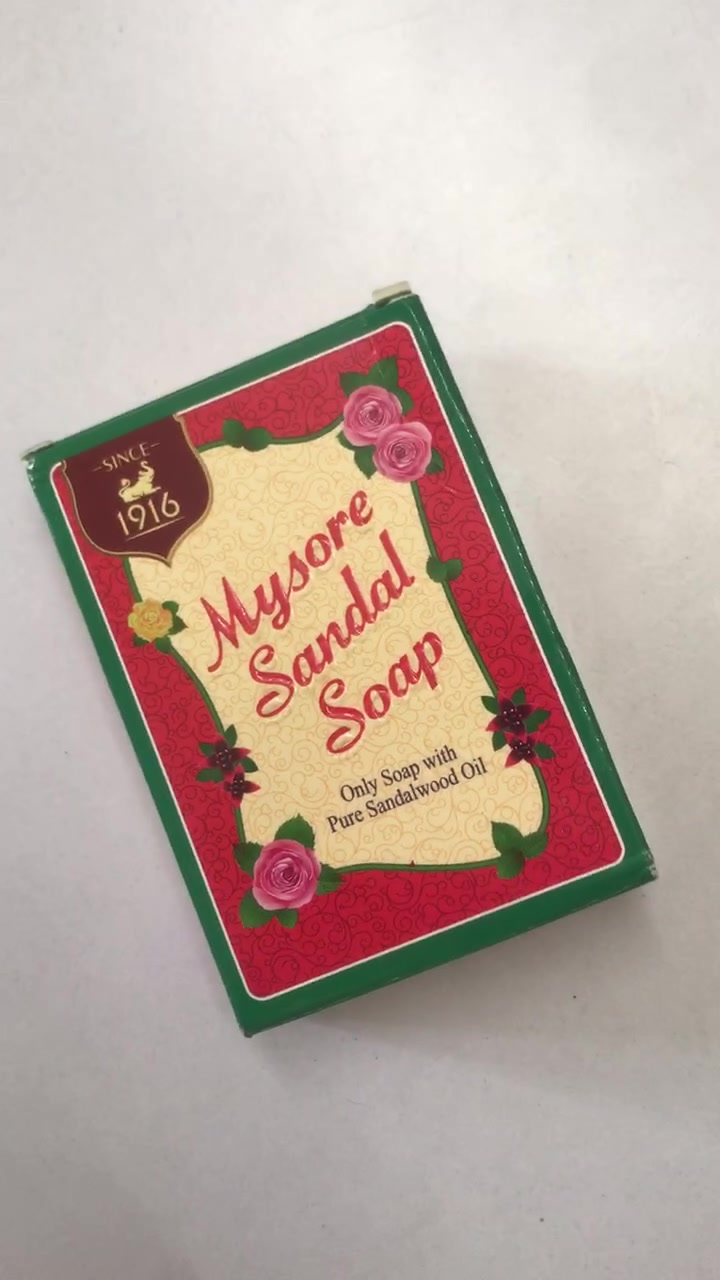mysore sandal soap: (24, 295, 663, 1039)
